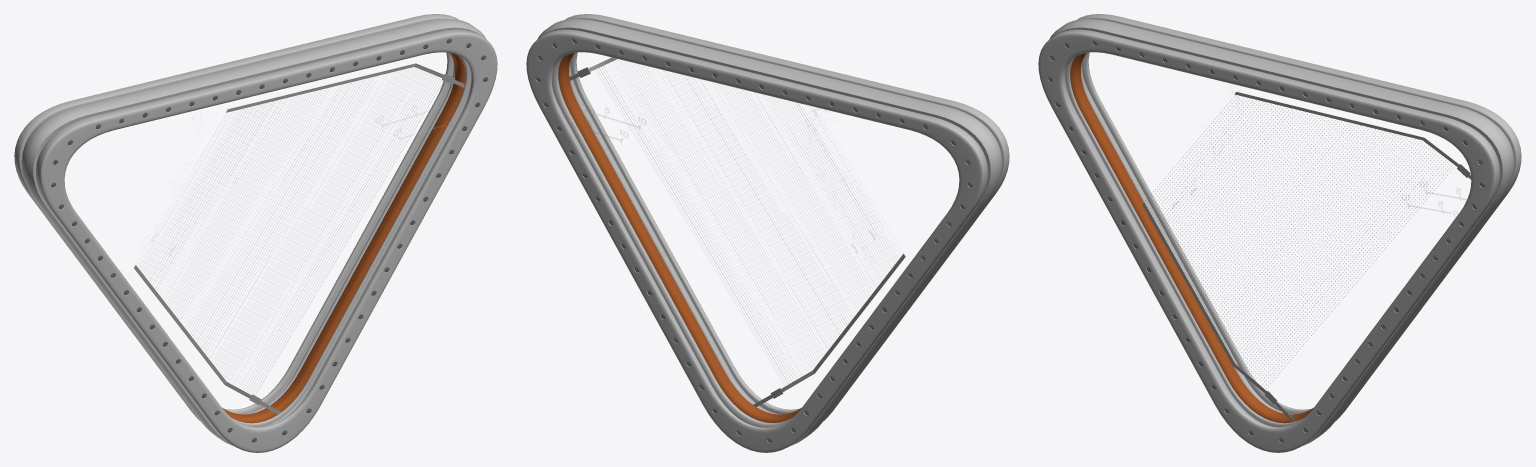
File: apollo-lunar-excursion-module.glb
3 renders of one model, left to right at view 1: azimuth 30°, elevation 25°; view 2: azimuth 150°, elevation 25°; view 3: azimuth 330°, elevation 25°, orthographic.
Parts seen in each view (by area): view 1: Frame_Baked_0; view 2: Frame_Baked_0; view 3: Frame_Baked_0.
Boxes of the visible parts, x1,y1,x2,y2 form: Frame_Baked_0: (14,14,497,452); Frame_Baked_0: (526,14,1009,452); Frame_Baked_0: (1038,14,1521,452).
Size of the model in its own units: 5.94 by 4.64 by 0.6161.
Materials: 6 (6 with a texture image).
